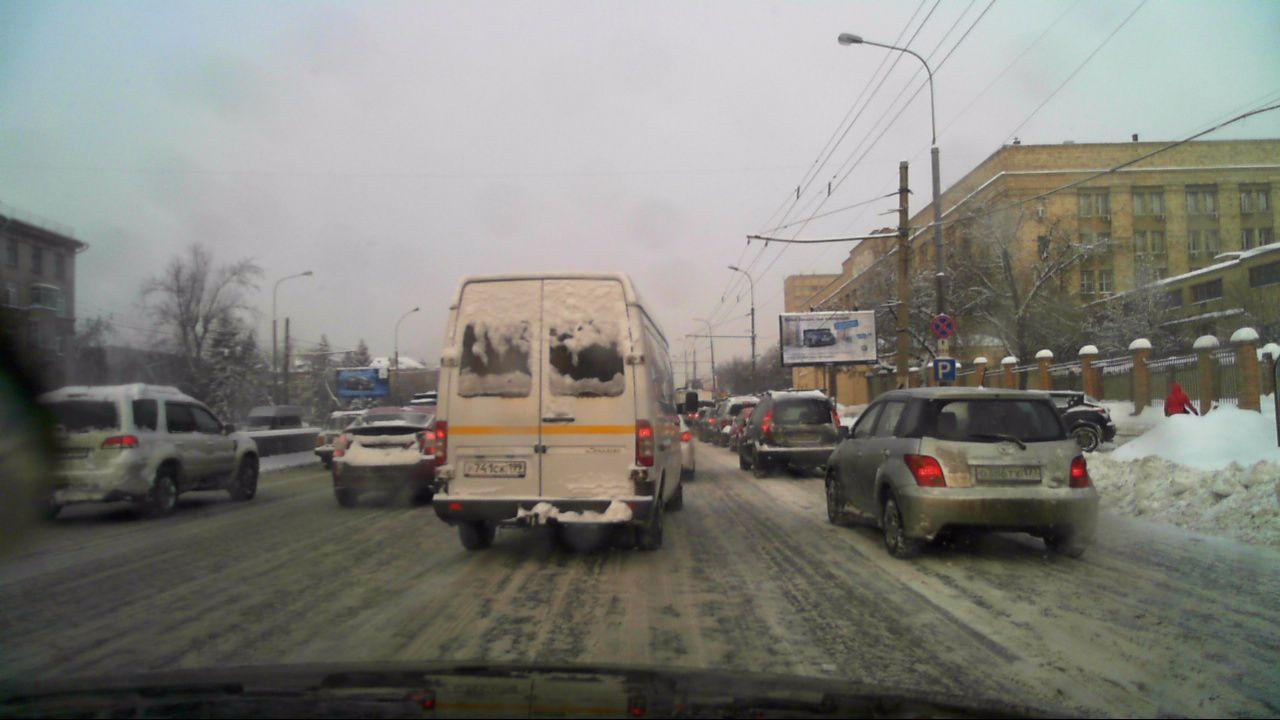3_27: (927, 314, 954, 337)
6_4: (933, 357, 956, 383)
